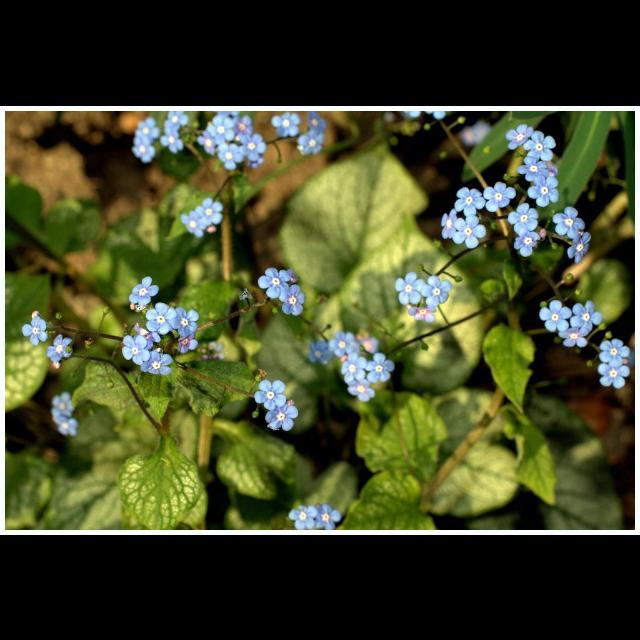Flower: (133, 106, 323, 172), (121, 273, 201, 377), (450, 214, 490, 248), (257, 264, 291, 302), (536, 298, 572, 332), (552, 205, 586, 241), (276, 280, 308, 318), (263, 400, 303, 430), (251, 376, 285, 409), (393, 270, 425, 304), (523, 128, 555, 162), (525, 174, 557, 208), (571, 299, 603, 333), (508, 200, 540, 233), (481, 182, 515, 212), (596, 360, 630, 390), (313, 501, 343, 534), (22, 313, 50, 345), (517, 154, 549, 182), (437, 205, 461, 241), (44, 334, 74, 362), (179, 208, 207, 238), (365, 353, 393, 383), (555, 324, 589, 348), (52, 412, 80, 441), (193, 198, 224, 224), (506, 122, 534, 150), (288, 503, 318, 529), (452, 186, 482, 212), (344, 378, 376, 402), (598, 338, 630, 362), (407, 299, 441, 321), (514, 231, 542, 257), (426, 276, 450, 306), (568, 230, 588, 264), (305, 340, 329, 368), (329, 332, 356, 356), (338, 354, 362, 380), (51, 389, 70, 415), (204, 341, 226, 357), (424, 105, 448, 119), (403, 108, 419, 118)
